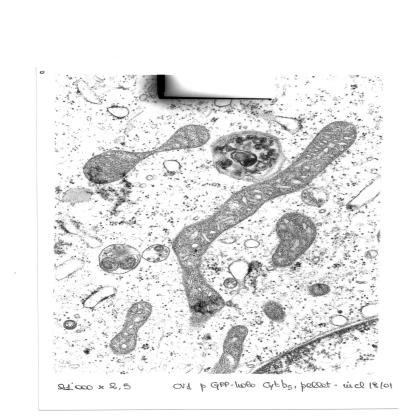mitochondria: (83, 123, 212, 184), (269, 210, 321, 266), (110, 298, 154, 354), (210, 325, 245, 374), (258, 298, 285, 325), (302, 282, 336, 298)
